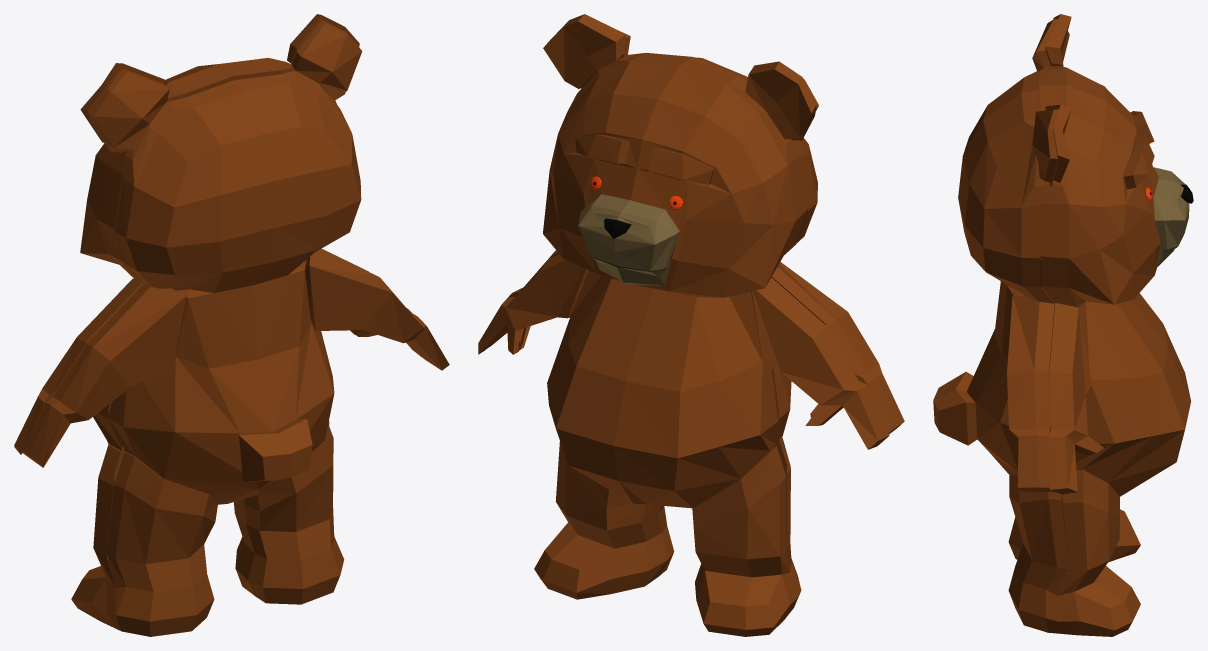
File: tedy.FBX
3 views of the same model, side by side, from view 1: azimuth 30°, elevation 25°; view 2: azimuth 150°, elevation 25°; view 3: azimuth 270°, elevation 25° (orthographic). The views are drawn at different scales.
Parts seen in each view (by area): view 1: Cube.002; view 2: Cube.002; view 3: Cube.002.
Boxes of the visible parts, x1=… form: Cube.002: x1=14, y1=14, x2=449, y2=636; Cube.002: x1=478, y1=14, x2=904, y2=636; Cube.002: x1=933, y1=14, x2=1193, y2=636.
Bounding box in the file's own units: 11.14 × 14.47 × 6.51.
